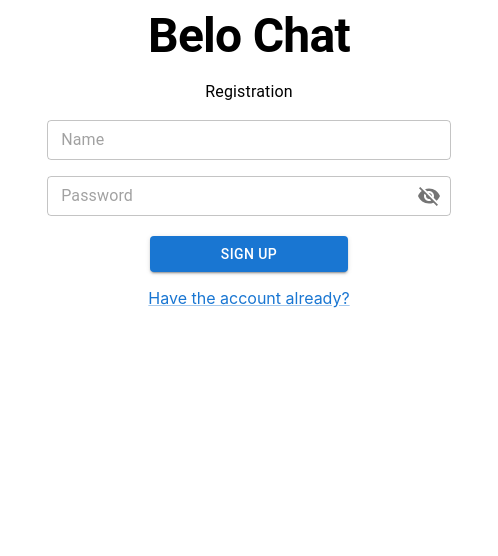
Test: Home page › Should throw an error because of an unexpected exception on registration page
The image size is (498, 556).
In the field with placeholder "Name": [249, 140] box [47,120,451,160], type "123456"
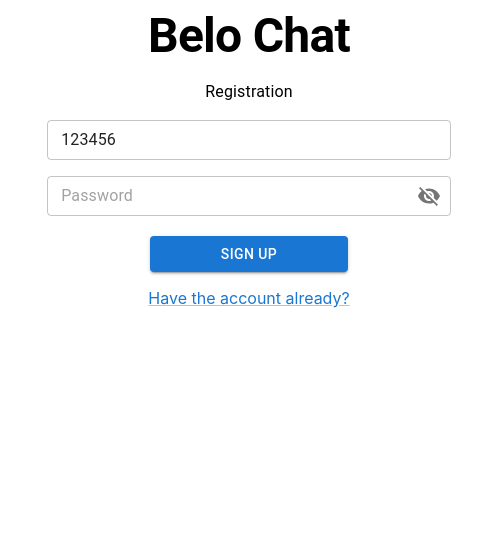
In the password field with placeholder "Password": [224, 196] box [47,176,401,216], type "12345678"
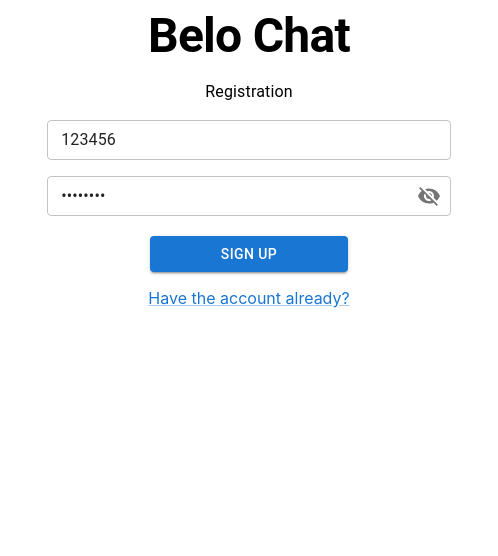
Click the button "Sign Up": [249, 254] box [150,236,348,272]
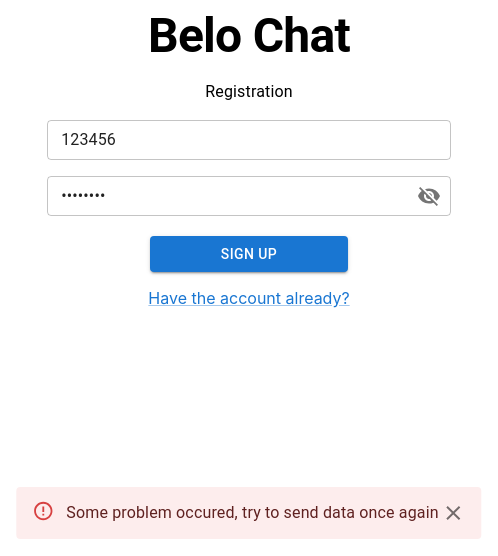
Check: the text "Some problem occured, try to send data once again" is shown, box [66,501,439,525]
